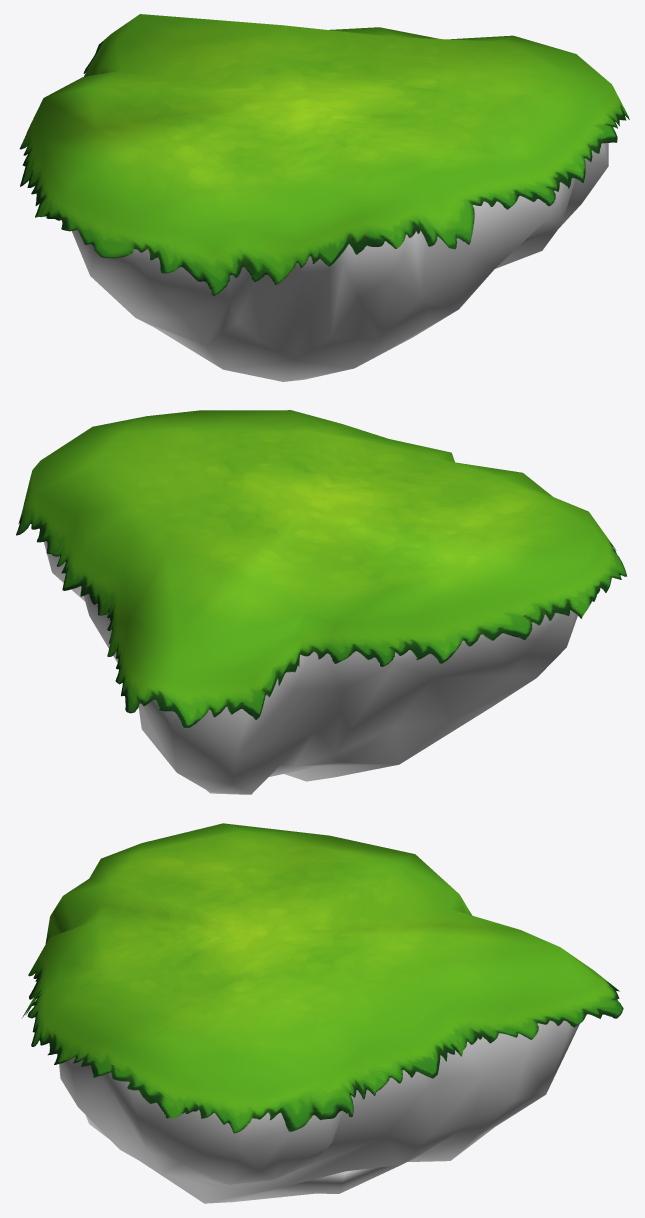
The model's file is Island_Medium_01.fbx.
The picture shows the model from 3 angles, top to bottom: view 1: azimuth 30°, elevation 25°; view 2: azimuth 150°, elevation 25°; view 3: azimuth 270°, elevation 25°; orthographic projection.
Visible parts, largest first — view 1: Island_Medium_01; view 2: Island_Medium_01; view 3: Island_Medium_01.
Boxes of the visible parts, left/top/right/bottom form: Island_Medium_01: left=19, top=14, right=629, bottom=381; Island_Medium_01: left=16, top=410, right=626, bottom=794; Island_Medium_01: left=22, top=823, right=623, bottom=1203.
Bounding box in the file's own units: 933 × 411 × 886.
